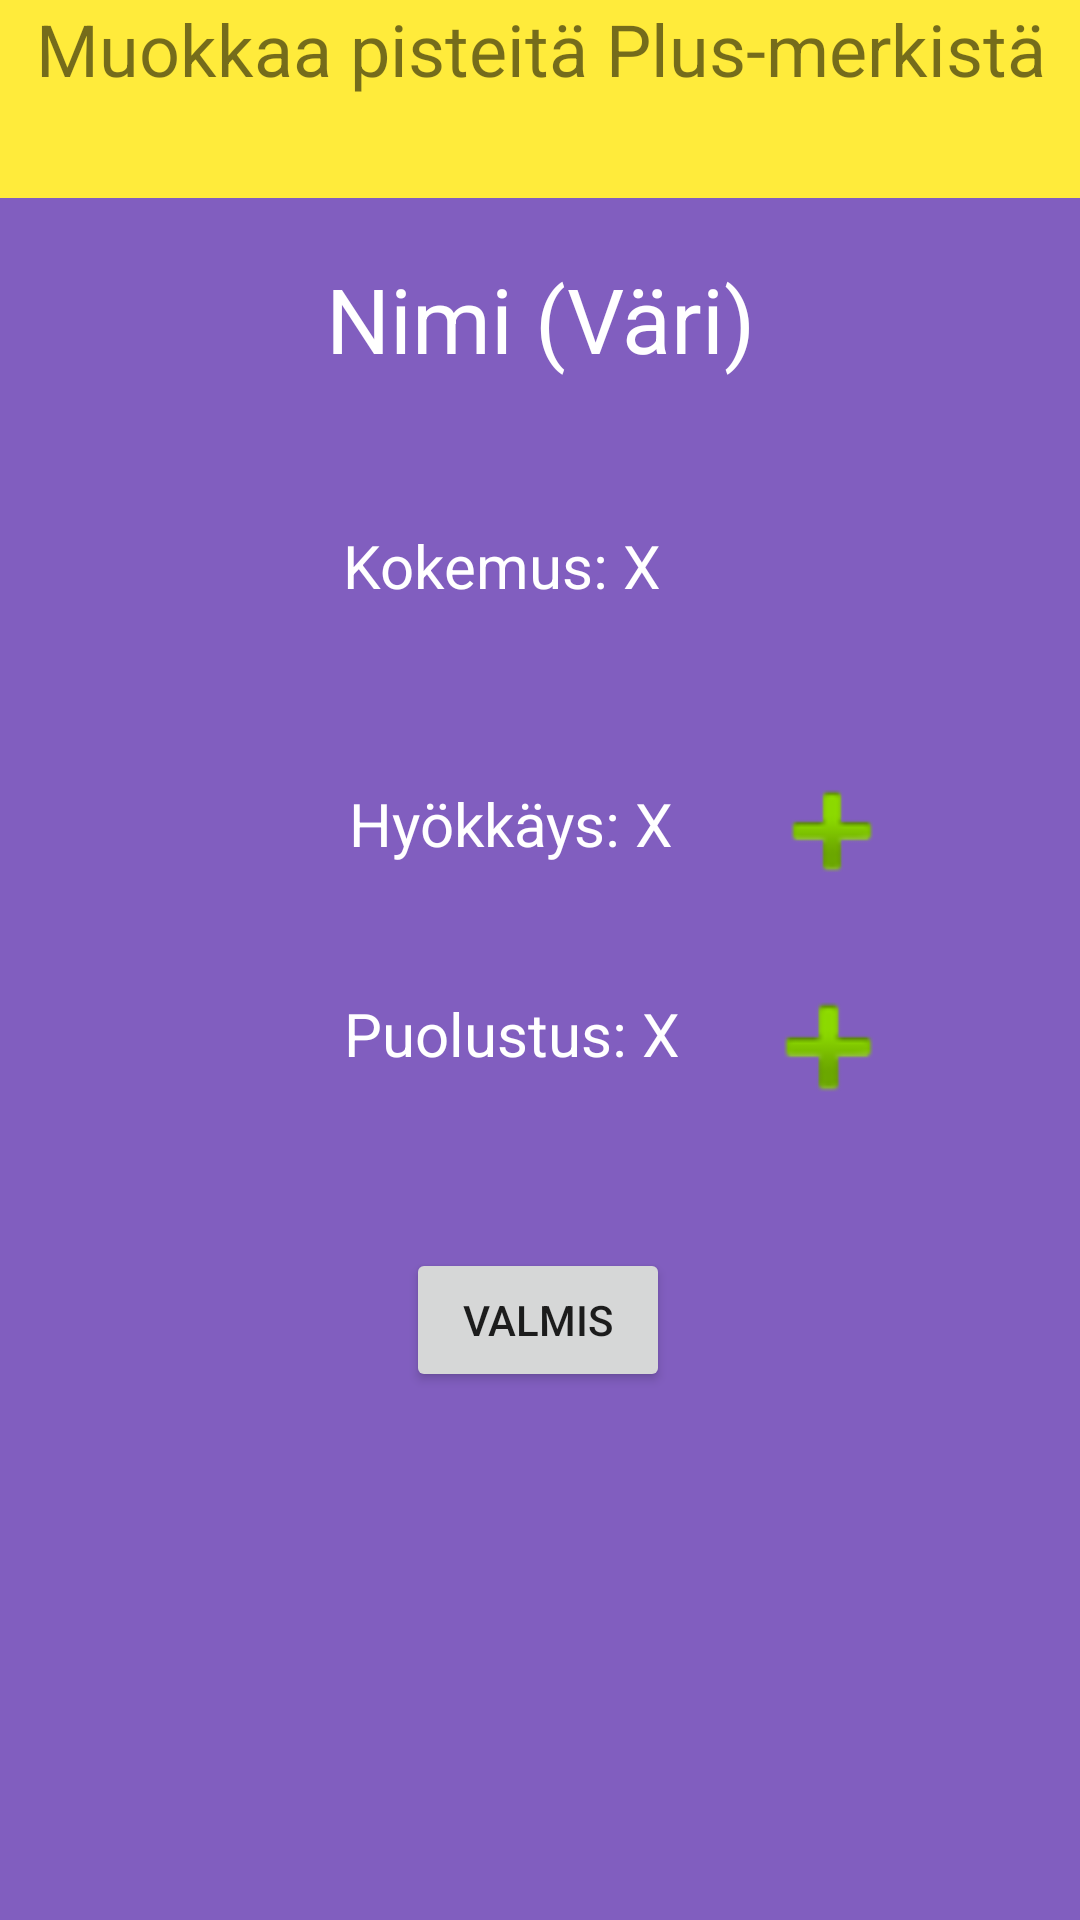

Icons on this 1080w x 1920h Android screen, each with the point to tap as [x,y]:
add: [832,831], [828,1047]
